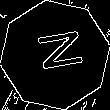N_W: (27, 31, 83, 79)
